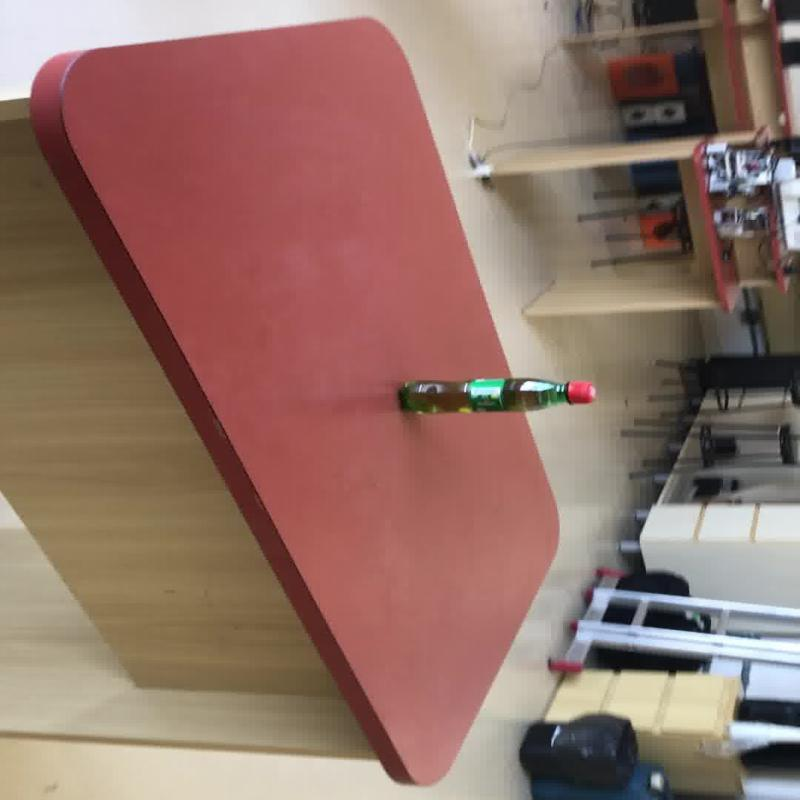guarana: (396, 375, 596, 414)
